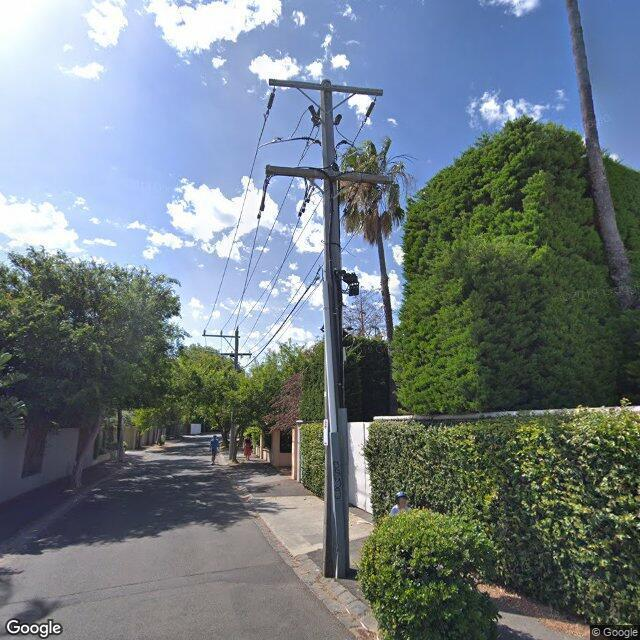HV-transmission: (264, 86, 375, 128), (203, 326, 239, 336)
crossarm: (266, 164, 392, 184), (268, 78, 384, 96), (202, 334, 240, 338), (220, 353, 252, 355)
timber-pole: (320, 79, 350, 578), (229, 331, 238, 461)
